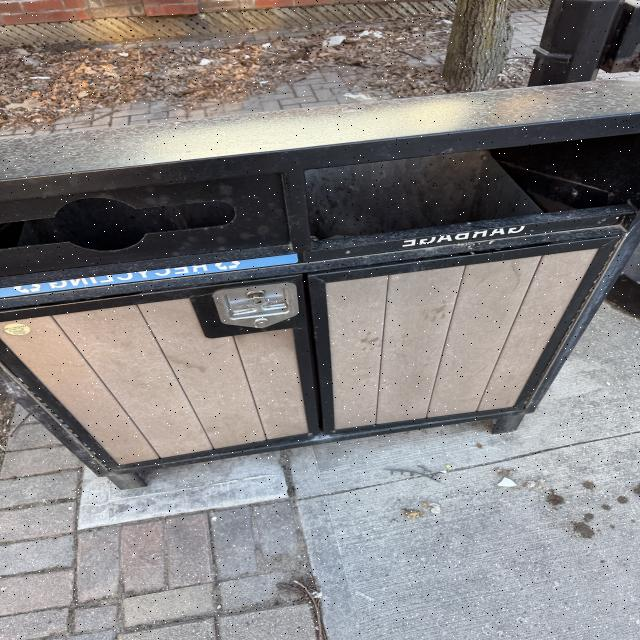Dustbin: (0, 80, 640, 492)
